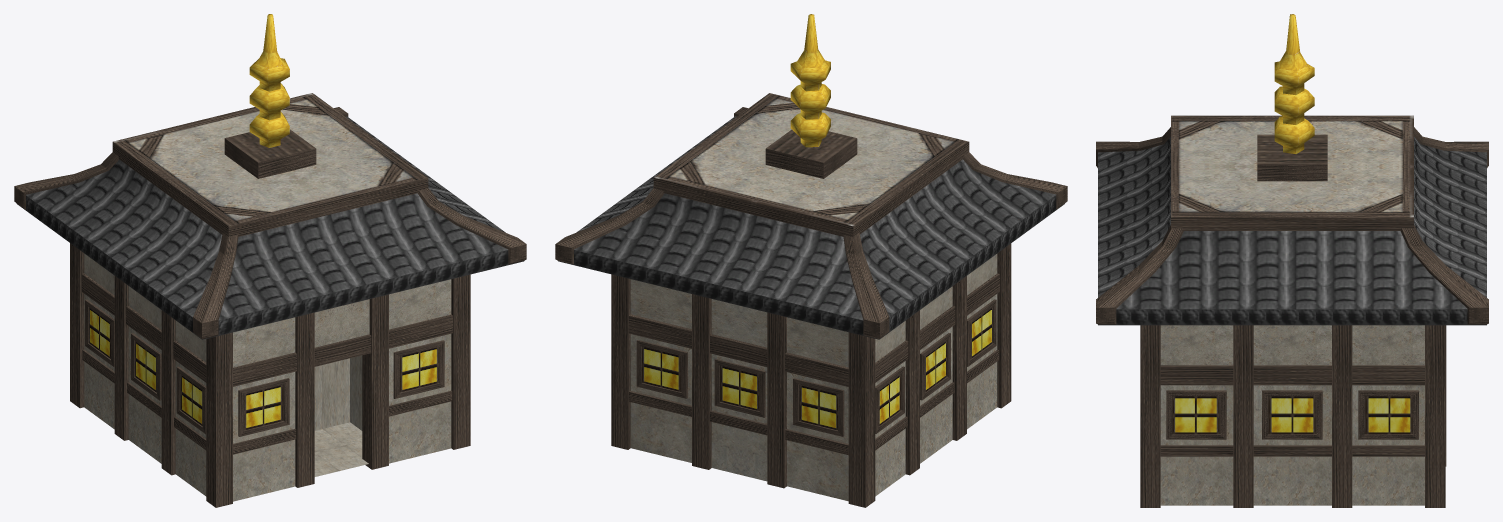
File: casa-oriental-0-c.fbx
3 views of the same model, side by side, from view 1: azimuth 30°, elevation 25°; view 2: azimuth 150°, elevation 25°; view 3: azimuth 270°, elevation 25° (orthographic). The views are drawn at different scales.
Parts seen in each view (by area): view 1: Cube.000, Cube.002, Cube.001; view 2: Cube.000, Cube.002; view 3: Cube.000, Cube.002.
Boxes of the visible parts, x1=… form: Cube.000: x1=14, y1=14, x2=526, y2=507; Cube.002: x1=88, y1=307, x2=439, y2=430; Cube.001: x1=314, y1=355, x2=368, y2=476; Cube.000: x1=555, y1=14, x2=1067, y2=507; Cube.002: x1=642, y1=307, x2=993, y2=430; Cube.000: x1=1096, y1=14, x2=1488, y2=507; Cube.002: x1=1172, y1=396, x2=1412, y2=434.
Size of the model in its own units: 5.37 by 6.46 by 5.37.
